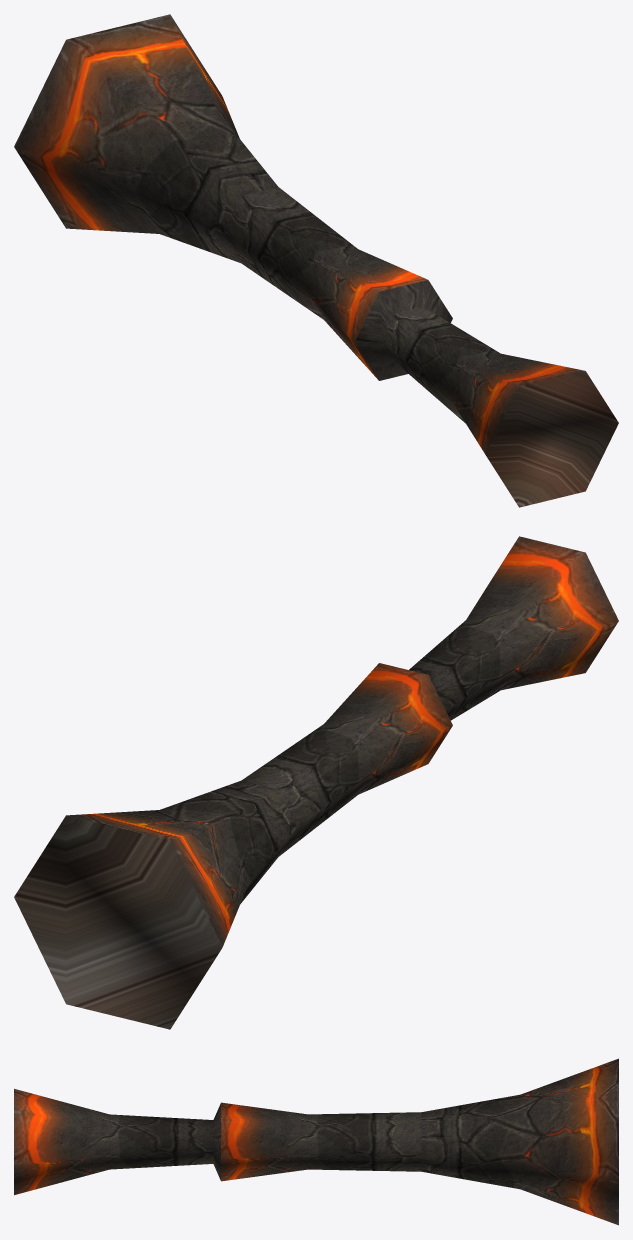
The model's file is rock-pillar_11.obj.
The picture shows the model from 3 angles, top to bottom: view 1: azimuth 30°, elevation 25°; view 2: azimuth 150°, elevation 25°; view 3: azimuth 270°, elevation 25°; orthographic projection. The views are drawn at different scales.
Visible parts, largest first — view 1: (null); view 2: (null); view 3: (null).
Boxes of the visible parts, x1,y1,x2,y2 form: (null): [14, 14, 618, 507]; (null): [14, 536, 618, 1029]; (null): [14, 1058, 618, 1225].
Bounding box in the file's own units: 3.35 × 2.9 × 12.09.
